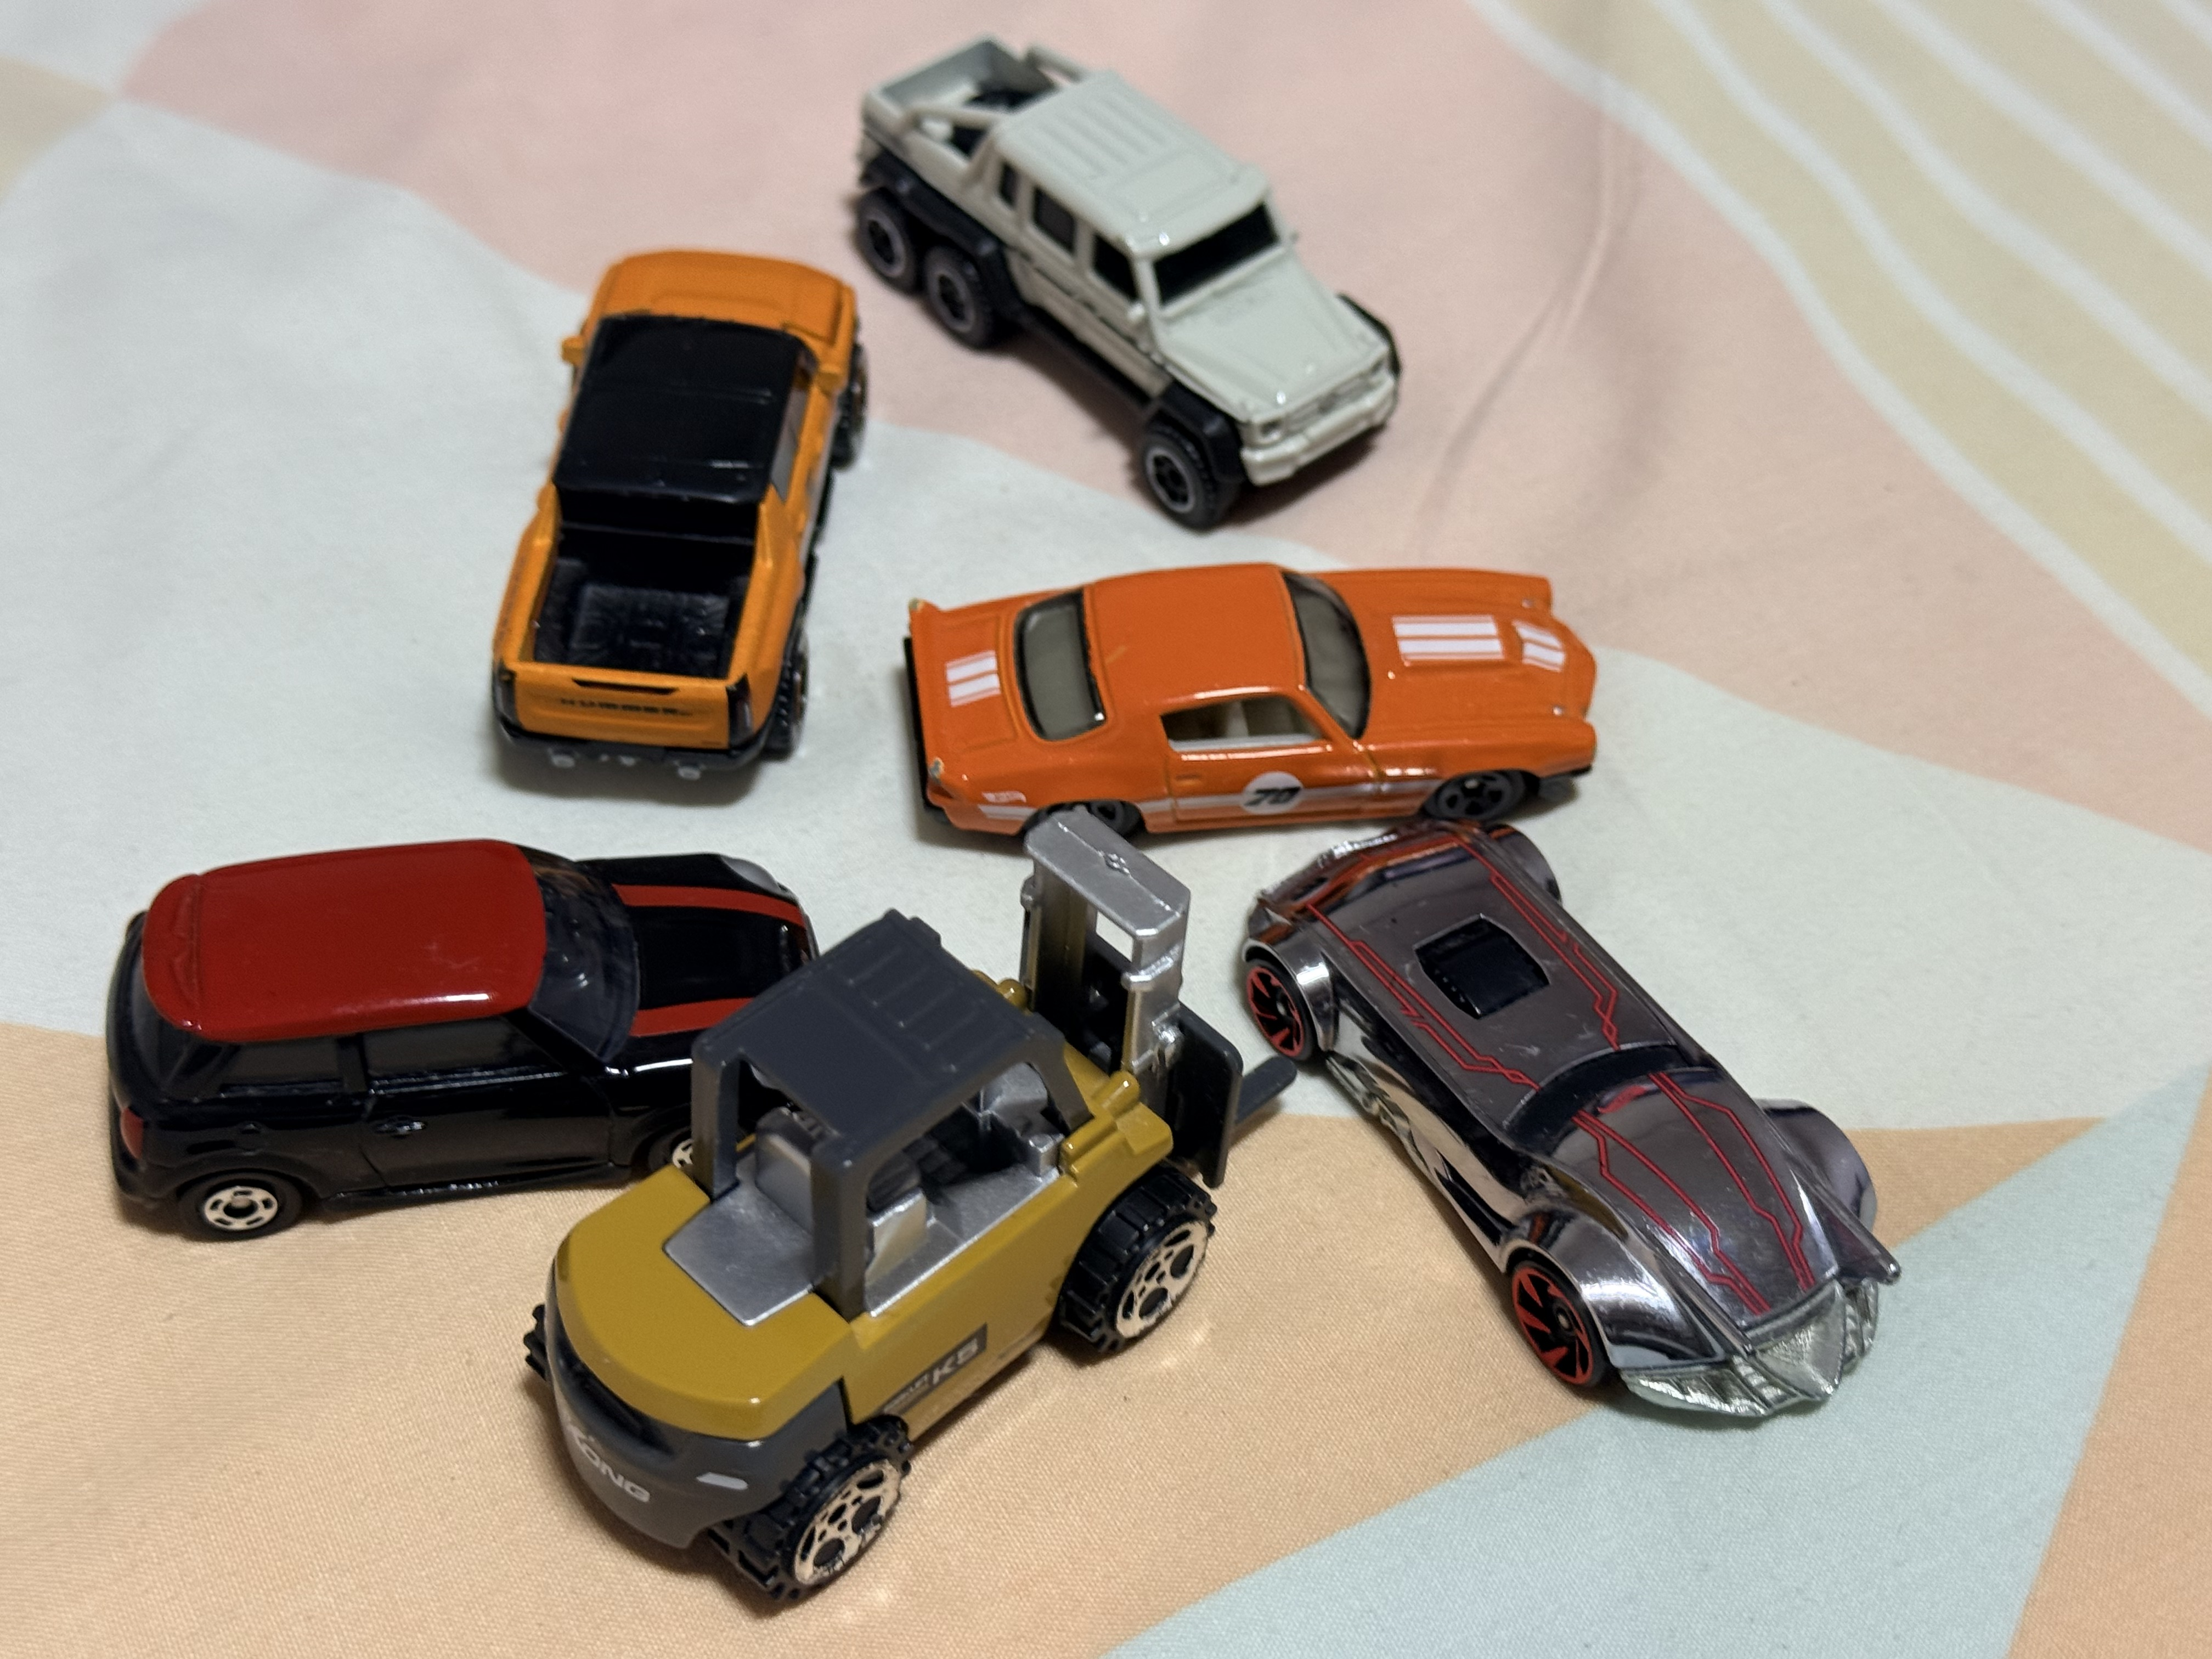camaro_rs: (902, 563, 1604, 856)
dc_comics: (1235, 810, 1905, 1434)
forklift: (519, 807, 1299, 1614)
gmc_hummer: (488, 246, 871, 791)
mercedes_benz: (848, 31, 1406, 533)
mini_cooper: (103, 835, 826, 1248)
